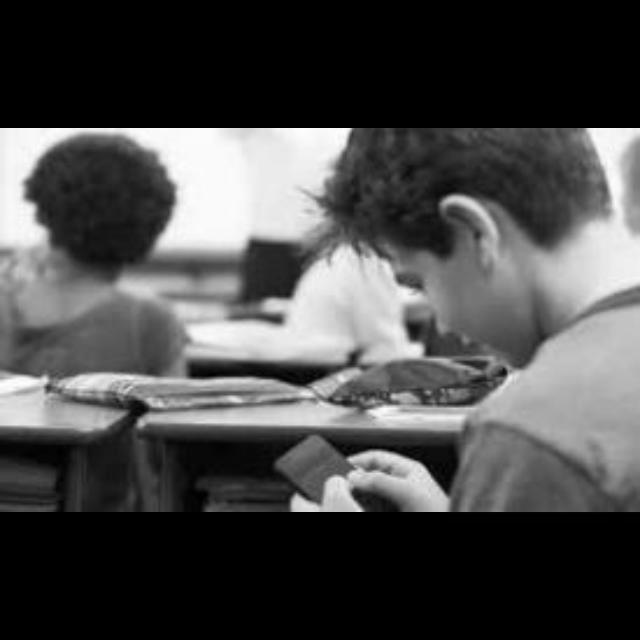fake: (254, 422, 420, 512)
